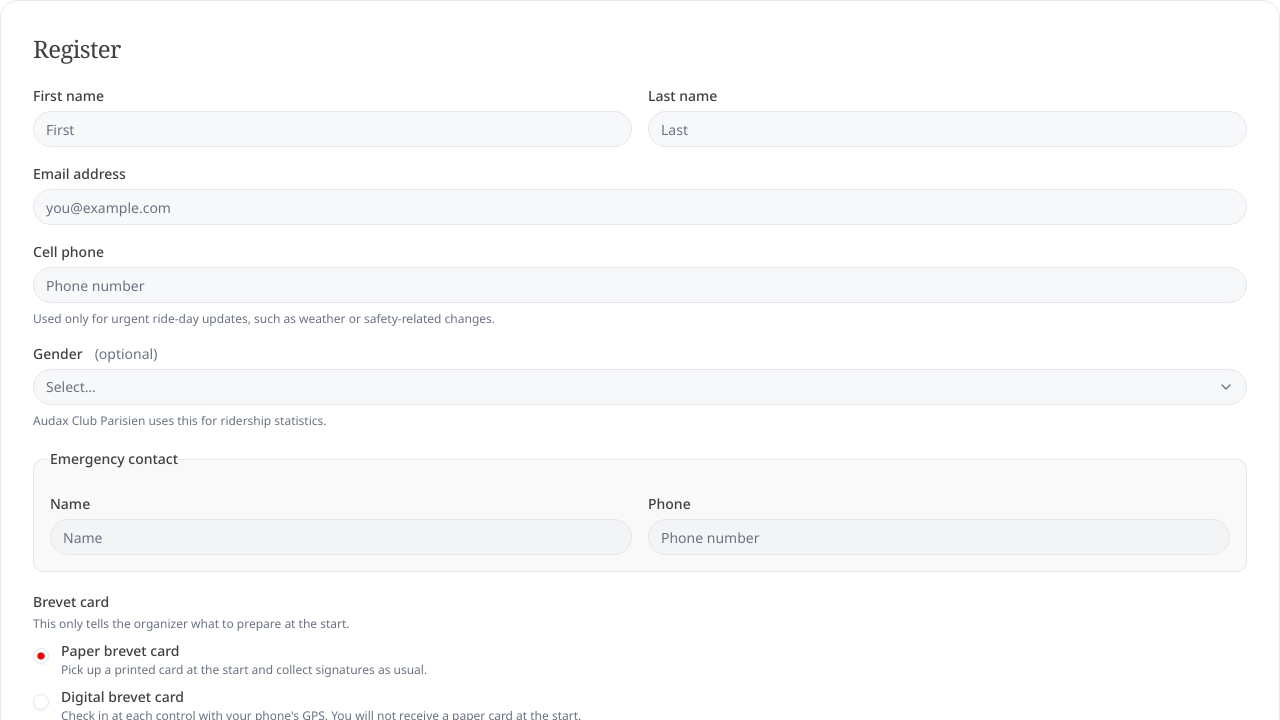
Scenario: RegistrationForm › error handling › displays error message on registration failure
This screenshot has width=1280, height=720.
In the field labelled "First name": x=332, y=129 [33,111,632,147], type "John"
In the field labelled "Last name": x=948, y=129 [648,111,1247,147], type "Doe"
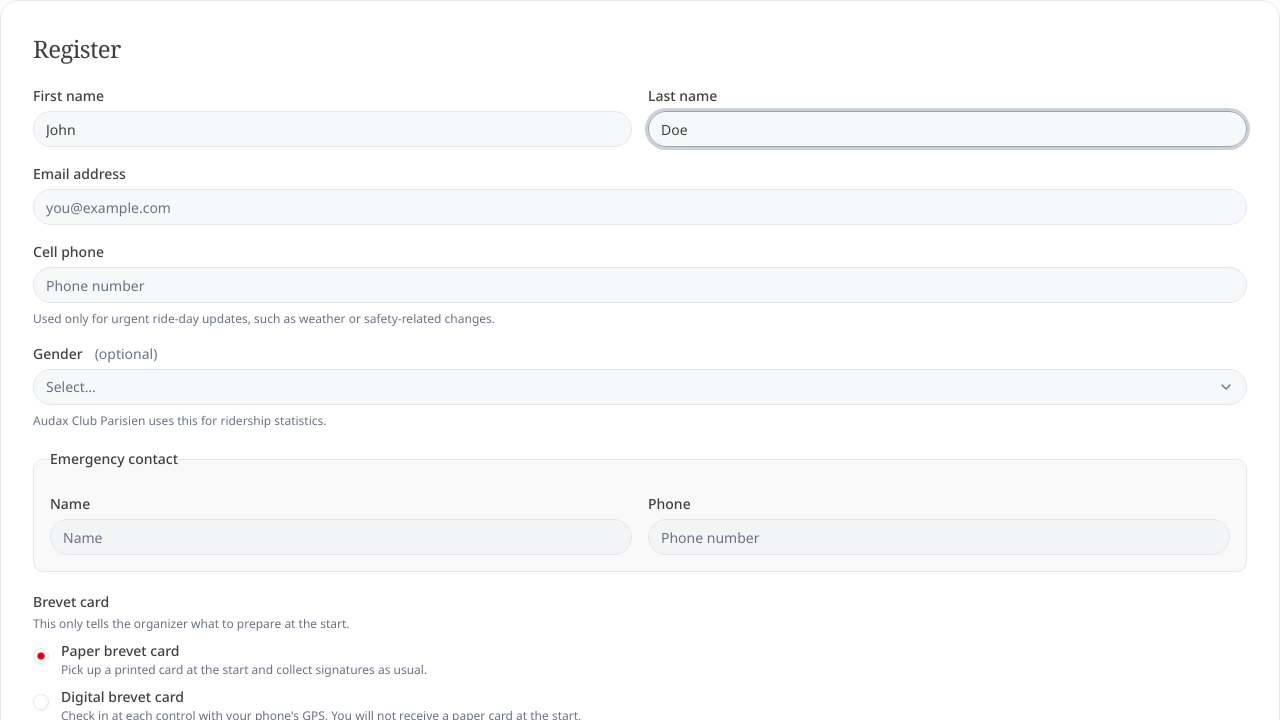
In the field labelled "Email address": x=640, y=207 [33,189,1247,225], type "john@example.com"
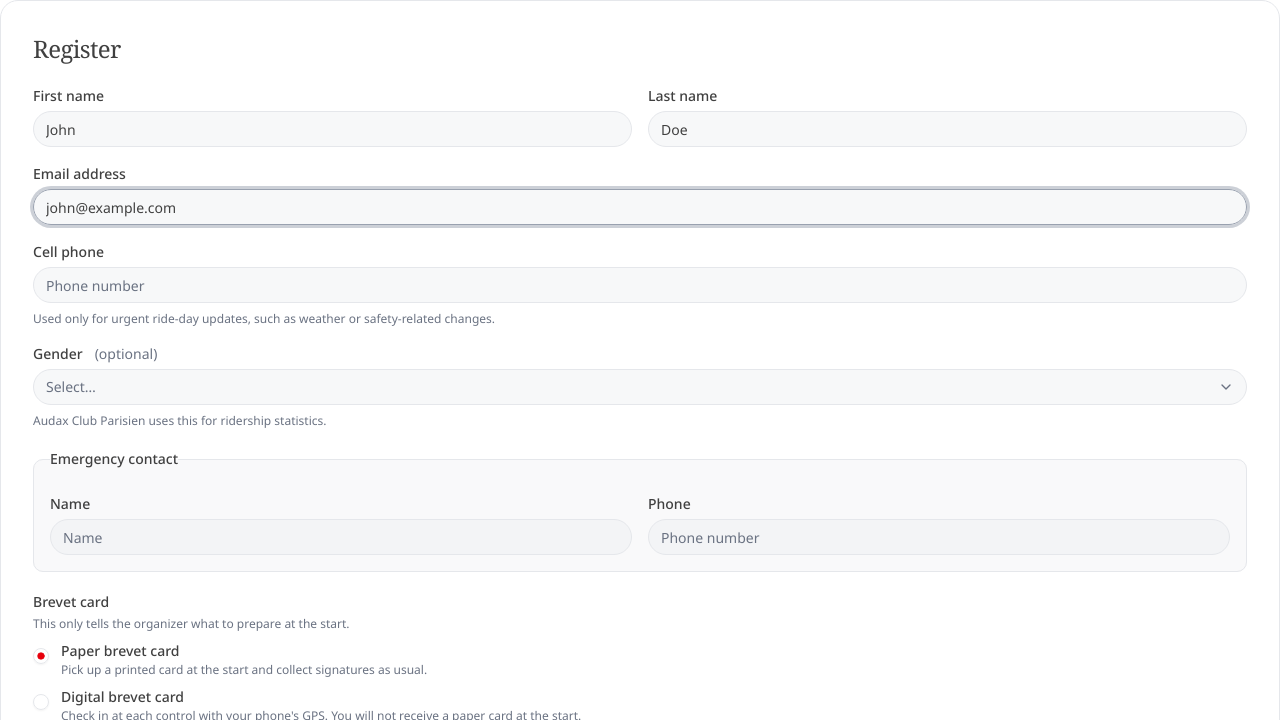
In the field with id "emergencyContactName": x=341, y=537 [50,519,632,555], type "Jane Doe"
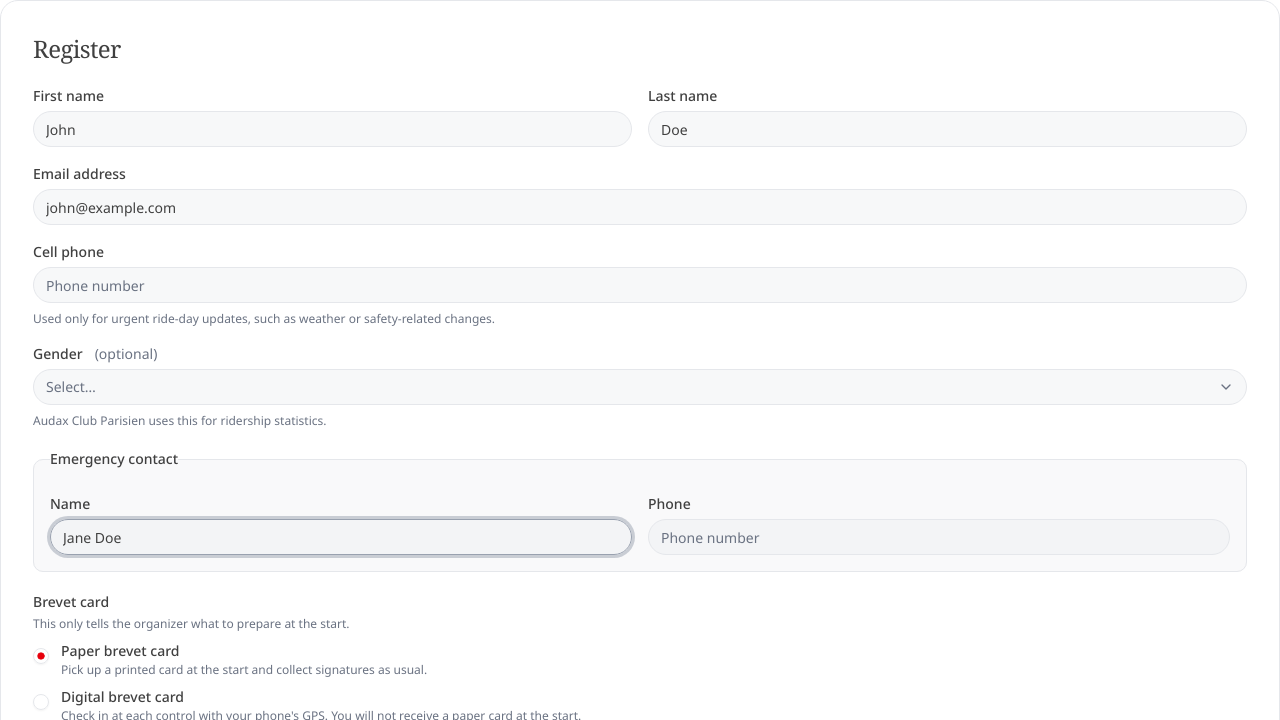
In the field with id "emergencyContactPhone": x=939, y=537 [648,519,1230,555], type "555-1234"
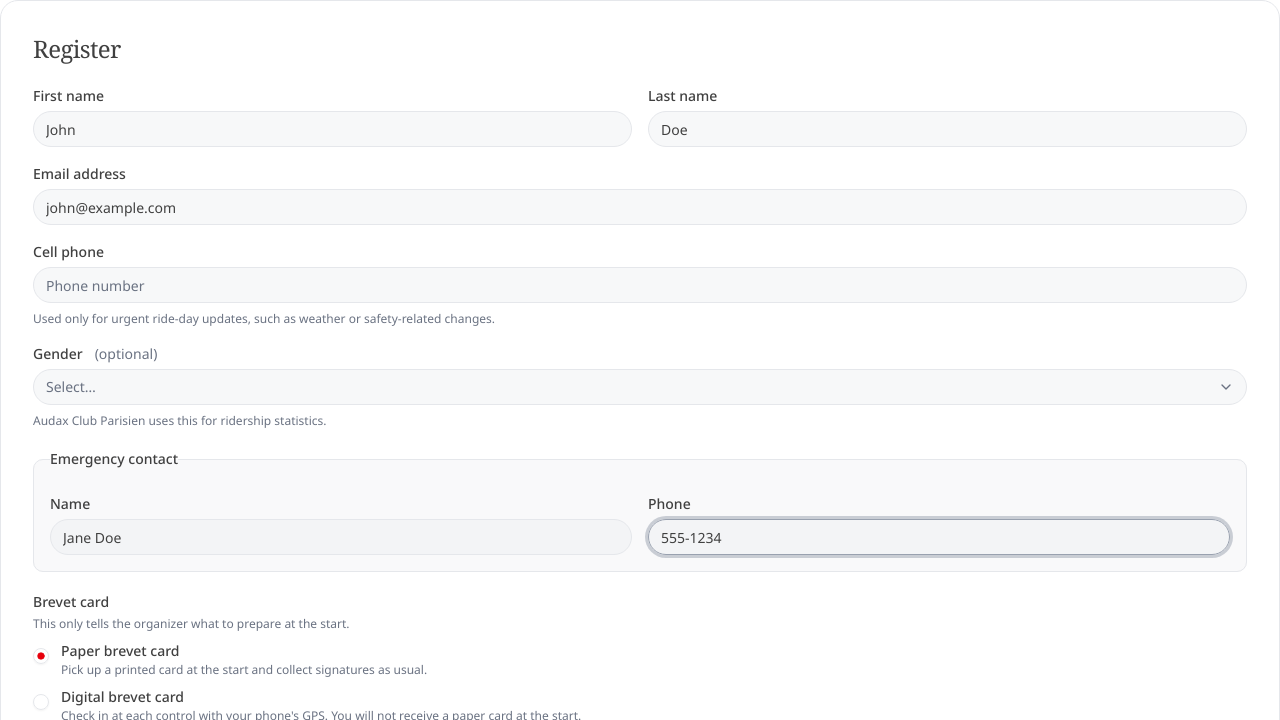
In the field labelled "Cell phone": x=640, y=285 [33,267,1247,303], type "416-555-9999"
(page scrolled)
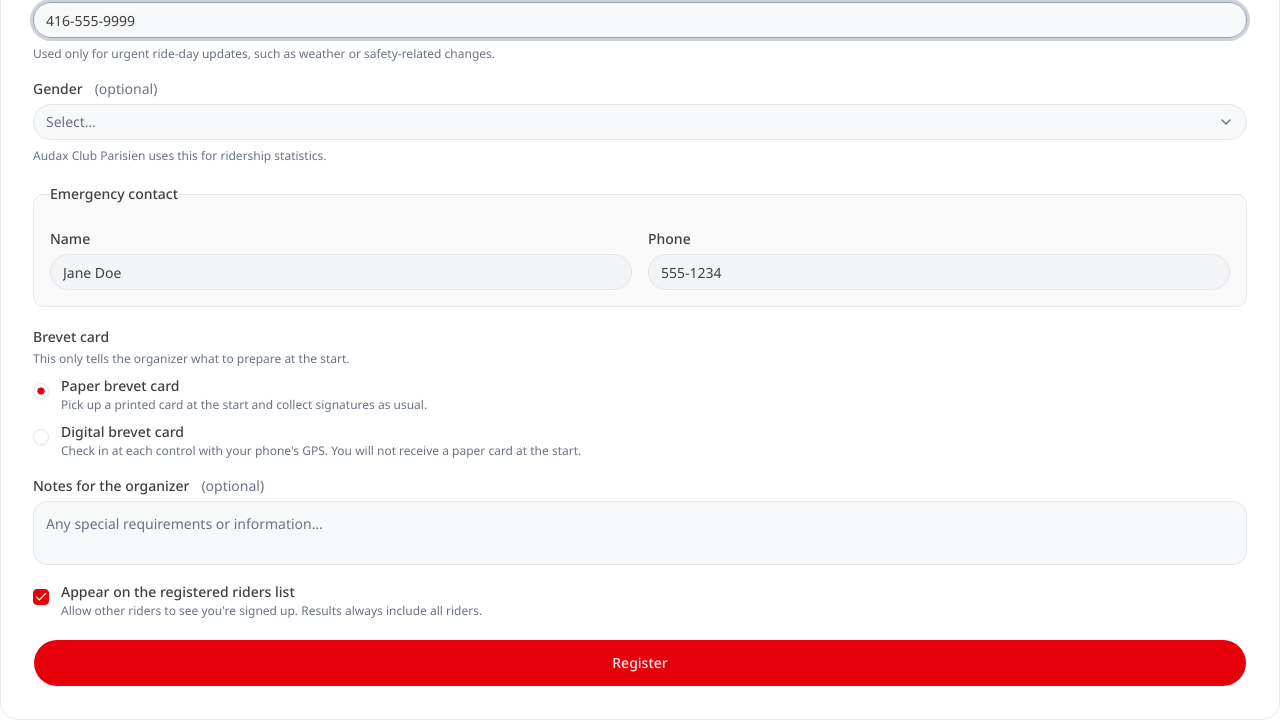
Click the button "Register": x=640, y=663 [33,639,1247,687]
(page scrolled)
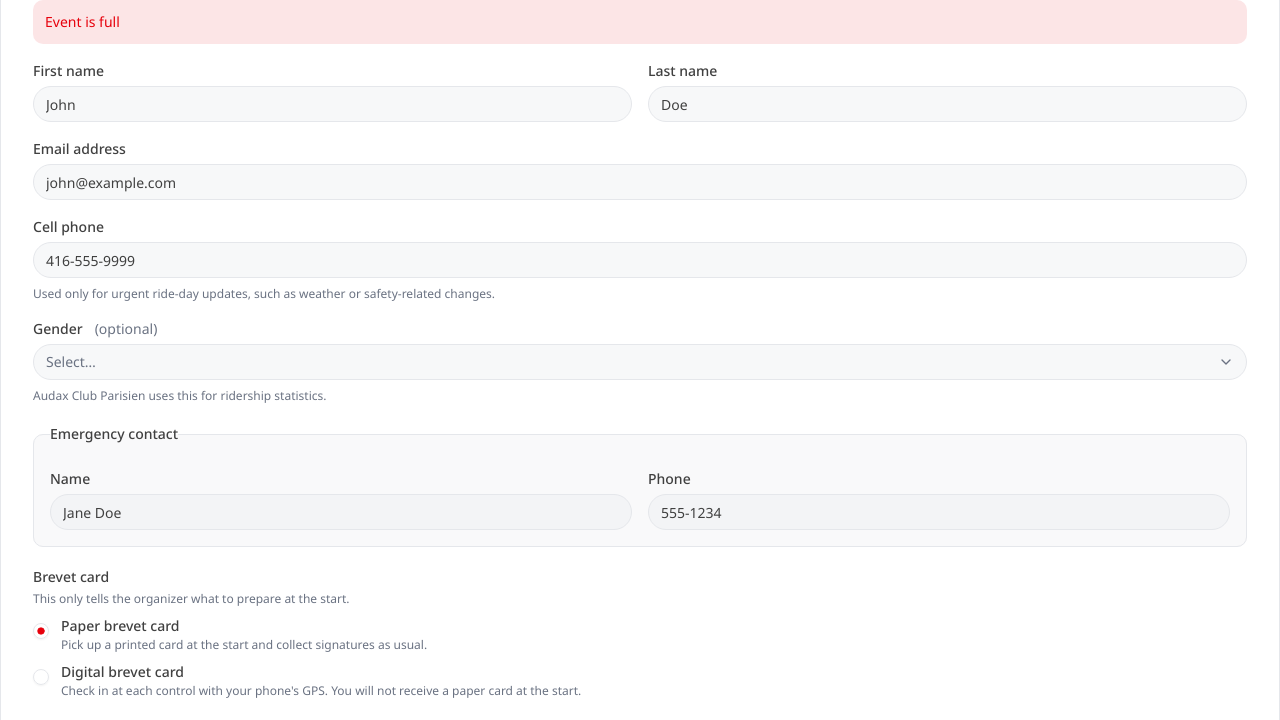
Now the text "Event is full" is shown, box [33,0,1247,44]
